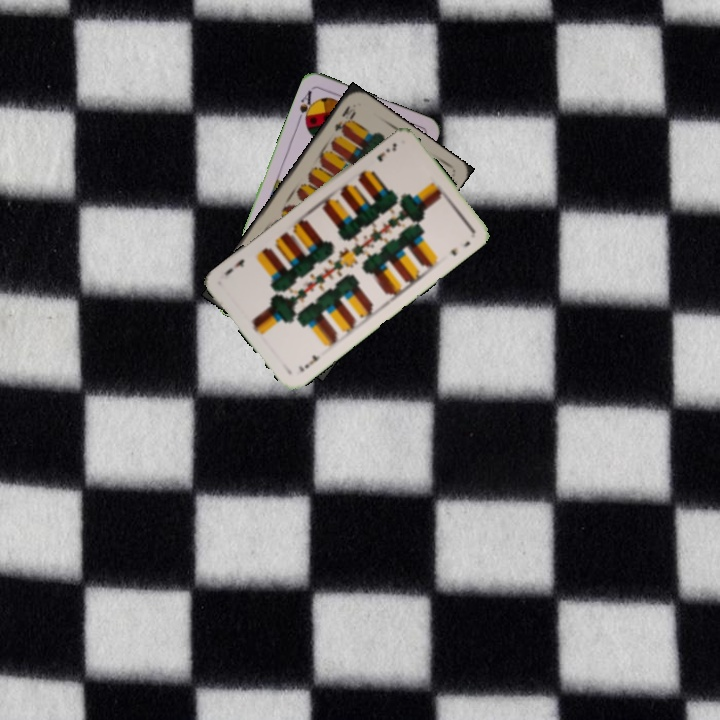E10: (331, 101, 358, 135)
E7: (294, 350, 323, 375), (373, 138, 399, 165)
SA: (294, 86, 318, 127)
